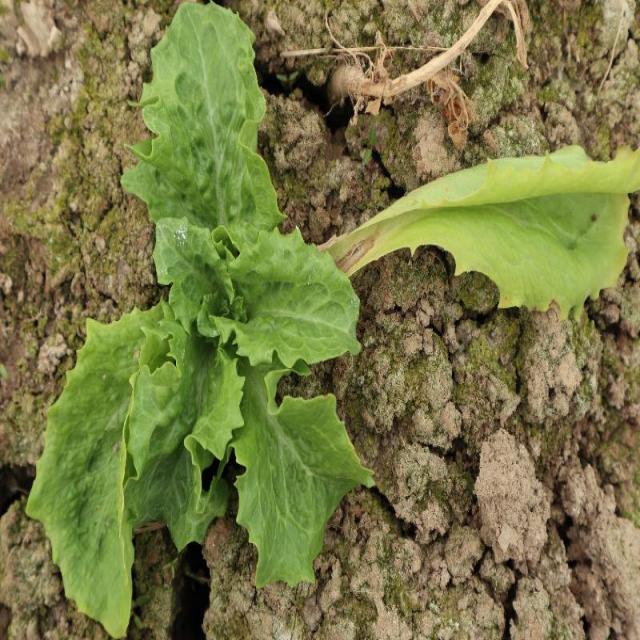crop: (22, 0, 375, 640)
